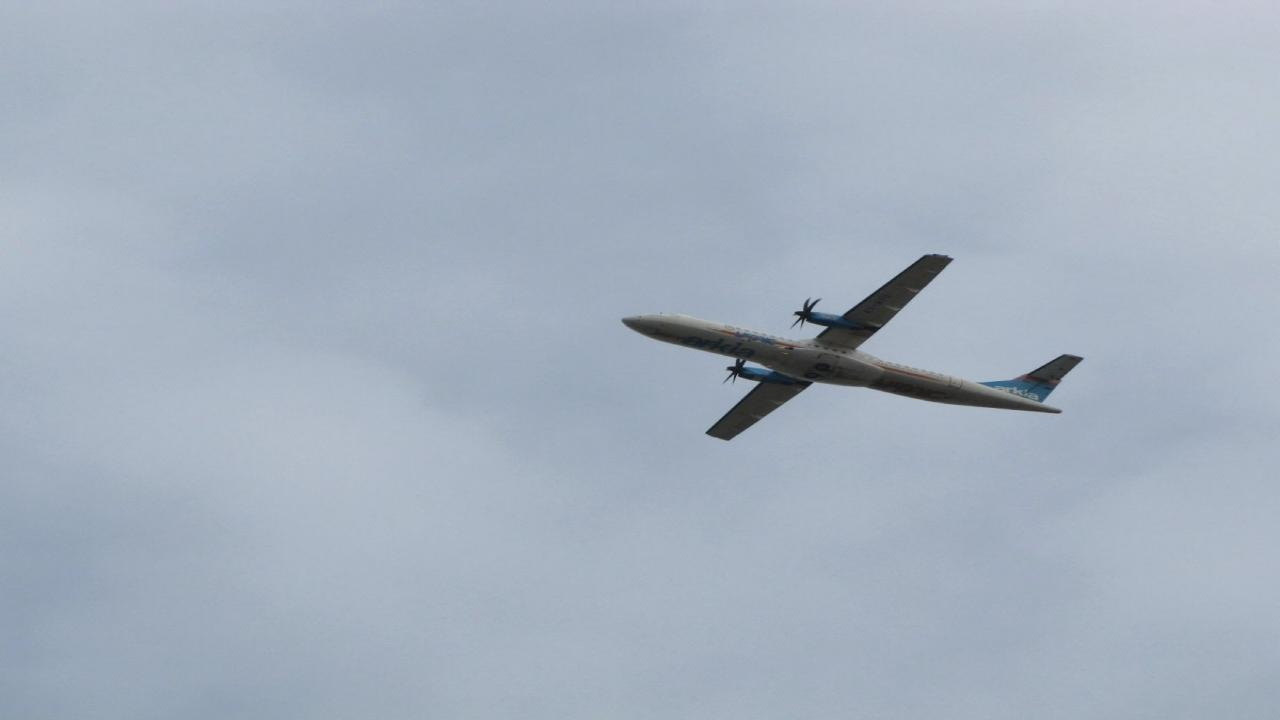Airplane: (570, 244, 1164, 453)
